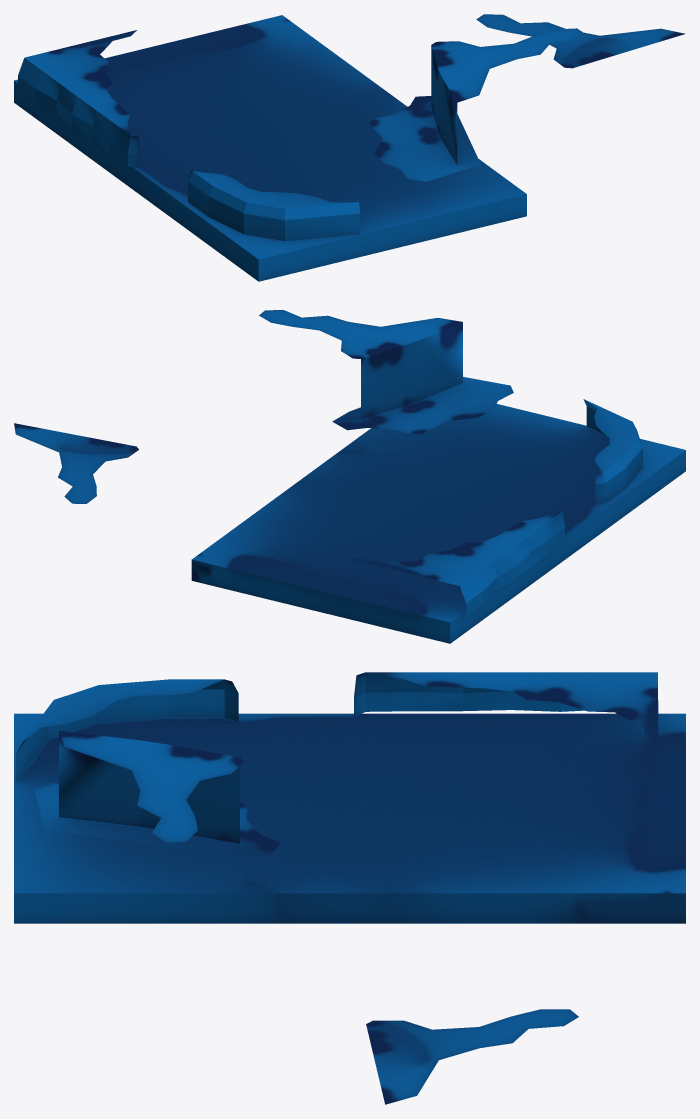
File: Water_01.FBX
3 views of the same model, one above another, from view 1: azimuth 30°, elevation 25°; view 2: azimuth 150°, elevation 25°; view 3: azimuth 270°, elevation 25° (orthographic). The views are drawn at different scales.
Visible parts, largest first — view 1: Water_01; view 2: Water_01; view 3: Water_01.
Part boxes in pixels (x1=…): Water_01: x1=14, y1=14, x2=685, y2=281; Water_01: x1=14, y1=310, x2=685, y2=643; Water_01: x1=14, y1=672, x2=685, y2=1104.
Bounding box in the file's own units: 40.32 × 7.76 × 30.05.
